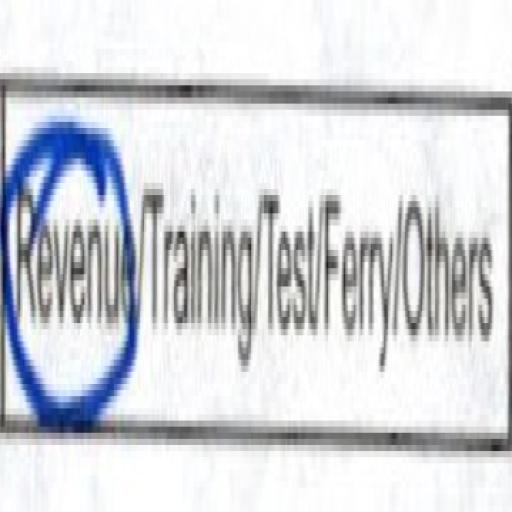check: (0, 55, 140, 512)
